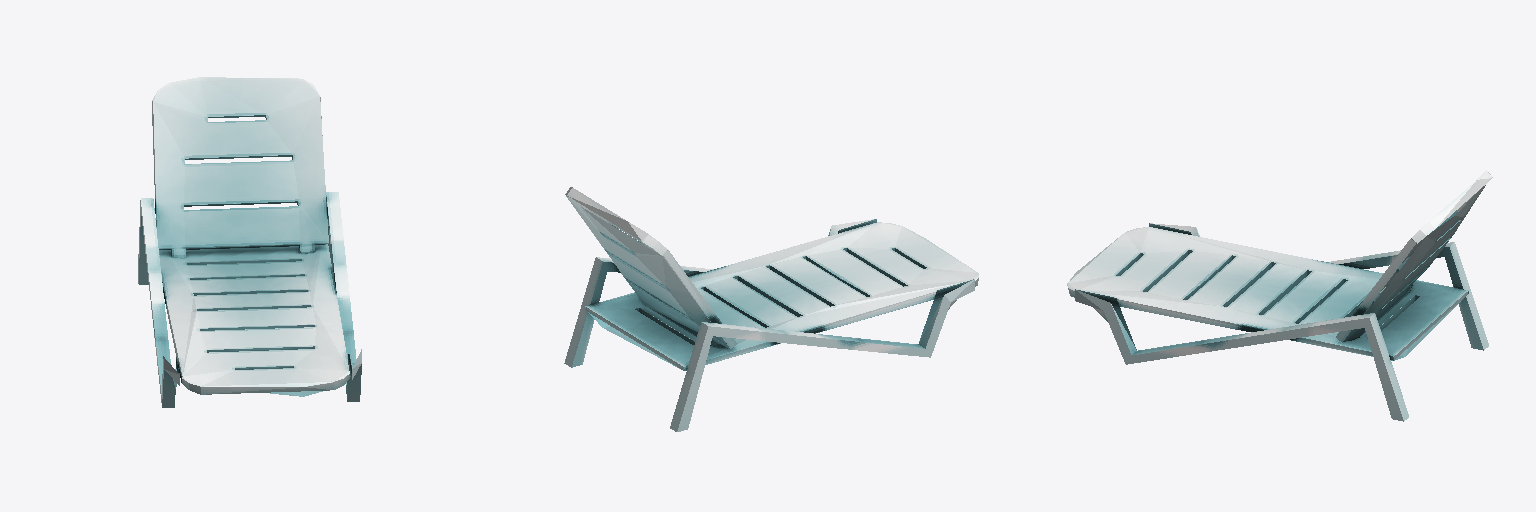
3 renders of one model, left to right at view 1: azimuth 30°, elevation 25°; view 2: azimuth 150°, elevation 25°; view 3: azimuth 270°, elevation 25°, orthographic.
Parts seen in each view (by area): view 1: Fake21; view 2: Fake21; view 3: Fake21.
Boxes of the visible parts, box(x1,y1,x2,y2) form: Fake21: box(138, 77, 361, 407); Fake21: box(564, 187, 978, 431); Fake21: box(1067, 170, 1492, 421).
Bounding box in the file's own units: 3.03 × 1.97 × 3.94.
Materials: 1 (1 with a texture image).